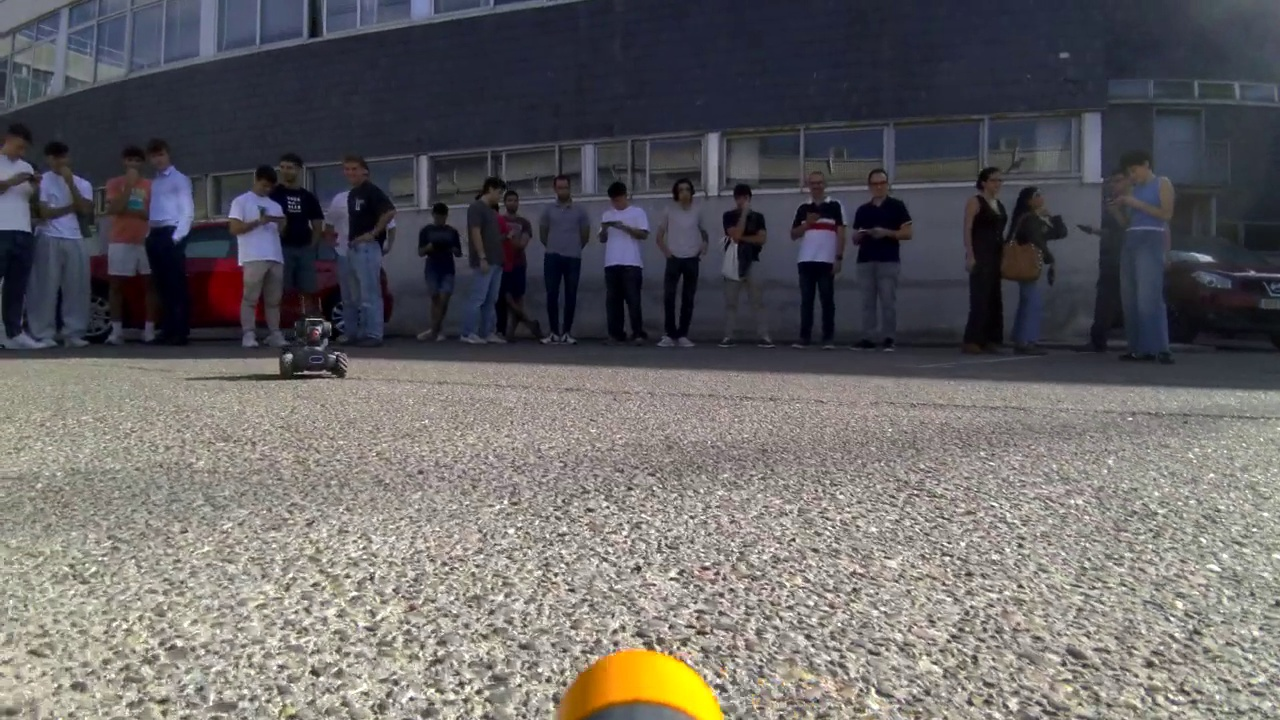robot: (270, 314, 356, 380)
